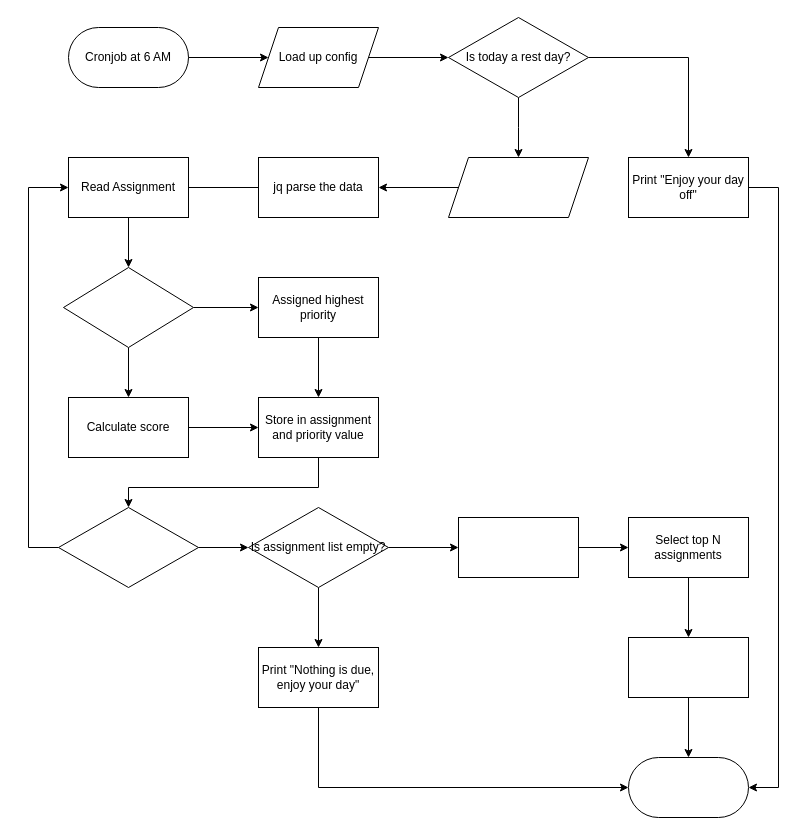
Image size: 804x835. Some labels were removed from this diagram. The box of each missing label's shape, as (x1, y1, x2, y2) in pixels:
End: (628, 756, 748, 818)
Is is overdue?: (62, 266, 194, 348)
Last item?: (58, 506, 198, 588)
Print greeting and checklist output: (628, 636, 748, 698)
Read assignment data: (448, 156, 588, 218)
Sort by assignment score: (458, 516, 578, 578)
